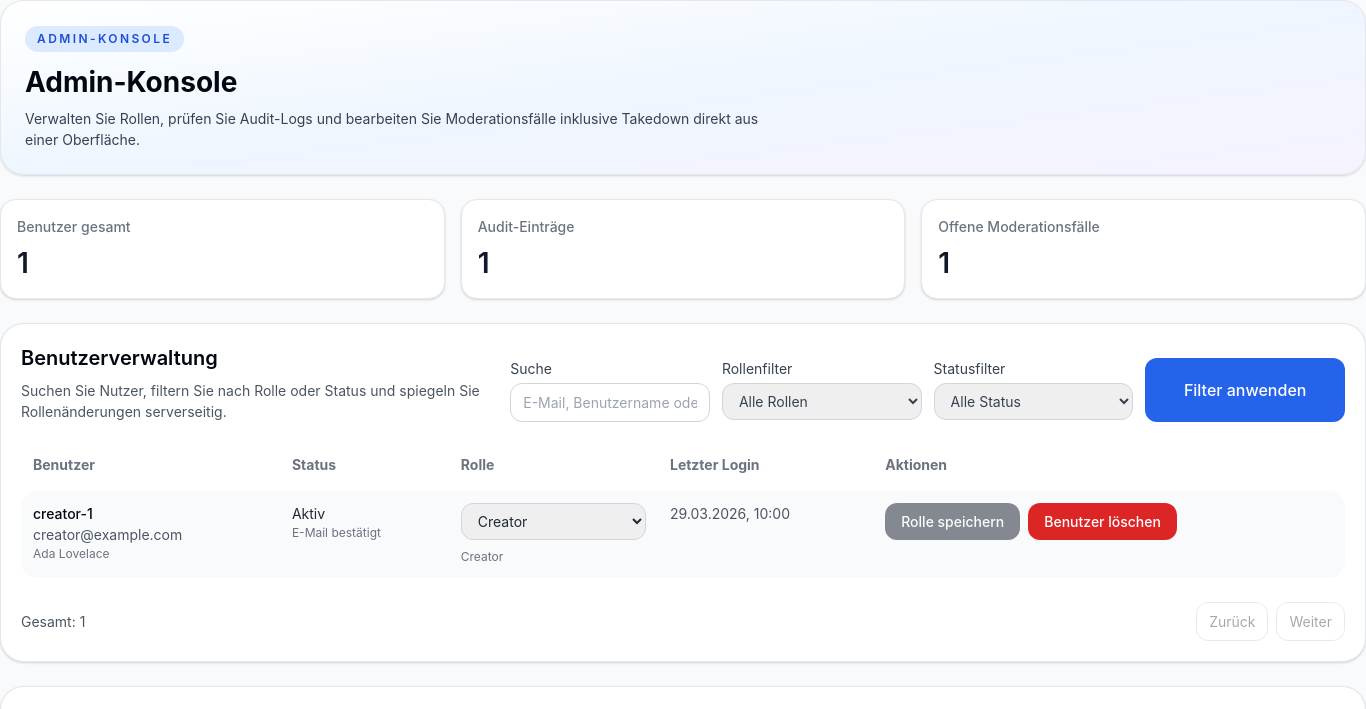
Scenario: AdminPanelPage › deletes a user after explicit confirmation
Expected: the text "creator-1" is shown, [33, 505, 93, 522]
Click the button "Benutzer löschen" at (1103, 521), box [1028, 503, 1177, 540]
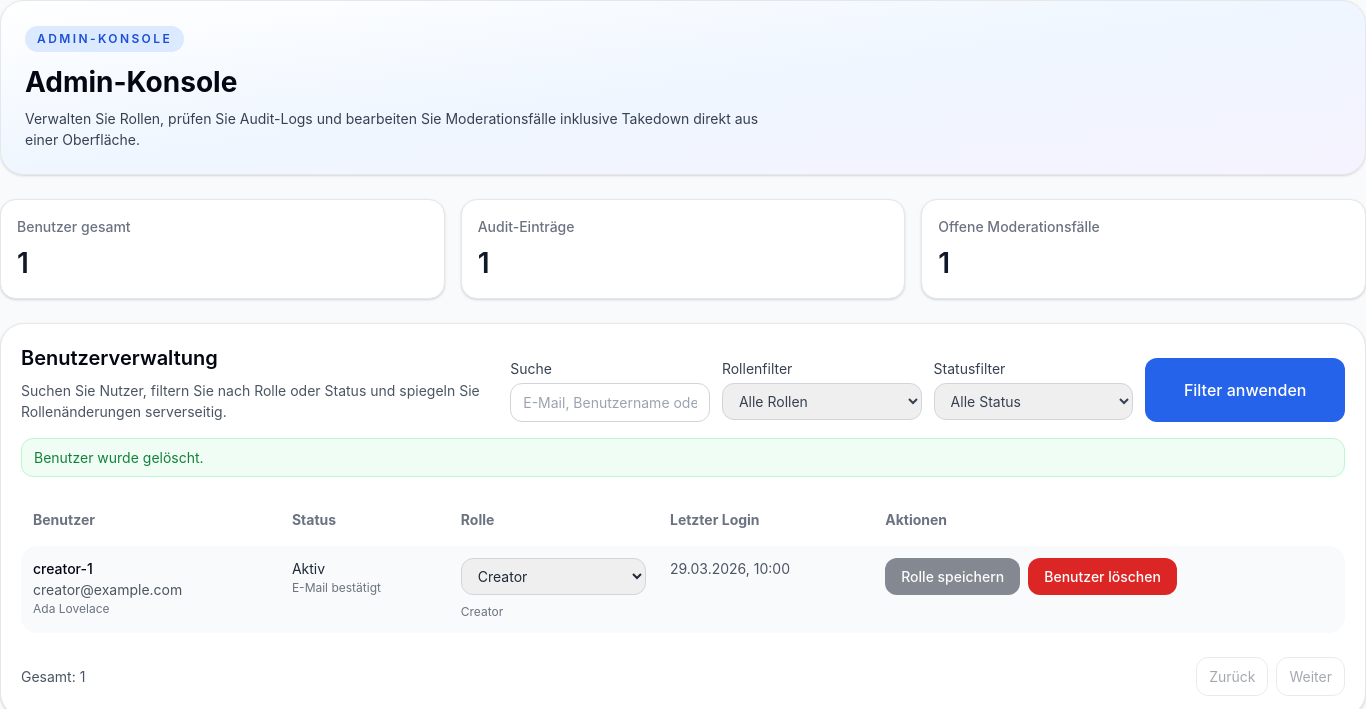
Result: the text "Benutzer wurde gelöscht." is shown at [21, 438, 1345, 477]
